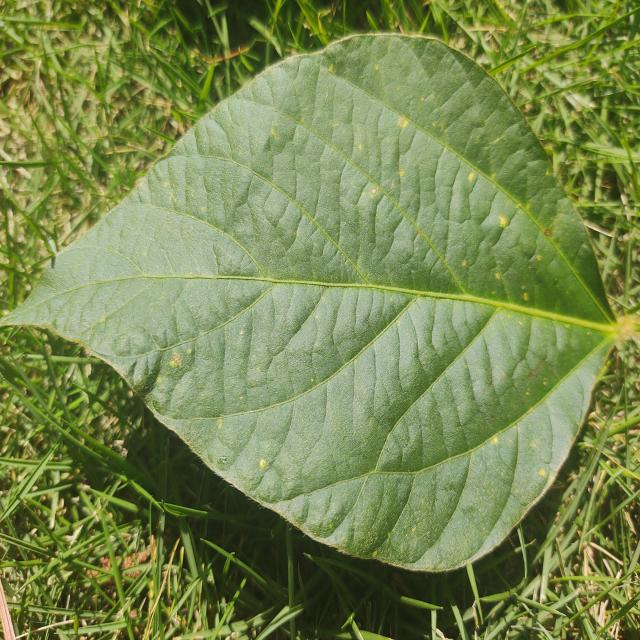downey_mildew: (340, 223, 389, 276)
